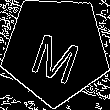M_N: (26, 18, 85, 82)
